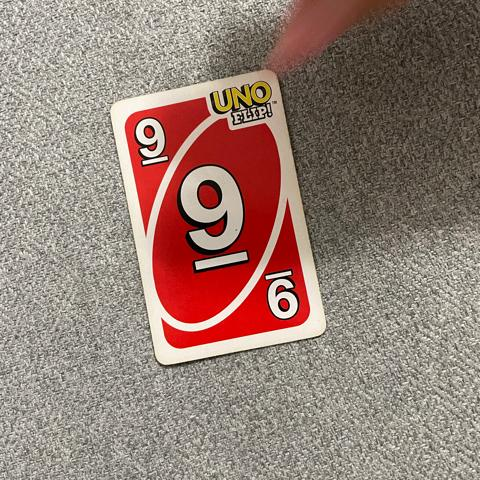lred-9: (128, 110, 183, 172)
